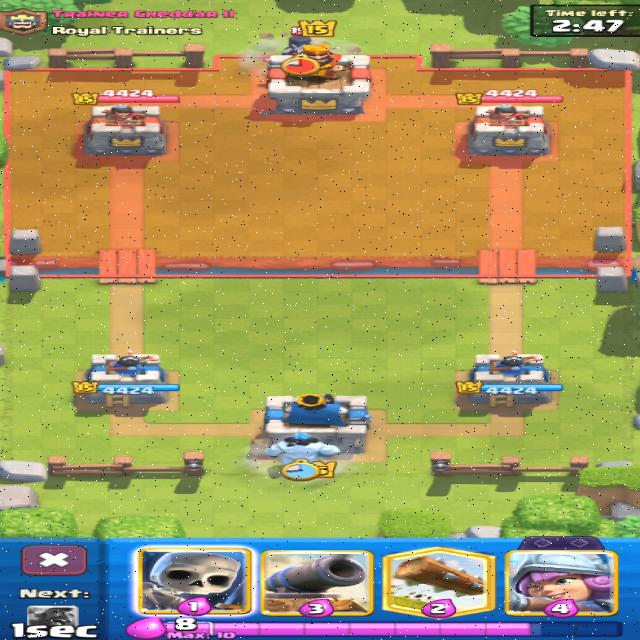Enemy-KingTower: (268, 44, 369, 113)
Enemy-NightWitch: (281, 36, 310, 56)
Enemy-PrincessTower: (468, 104, 549, 155), (84, 104, 166, 154)
Player-IceGolem: (266, 433, 339, 465)
Player-KingTower: (264, 393, 371, 452)
Player-PrincessTower: (73, 351, 179, 407), (457, 351, 562, 406)
